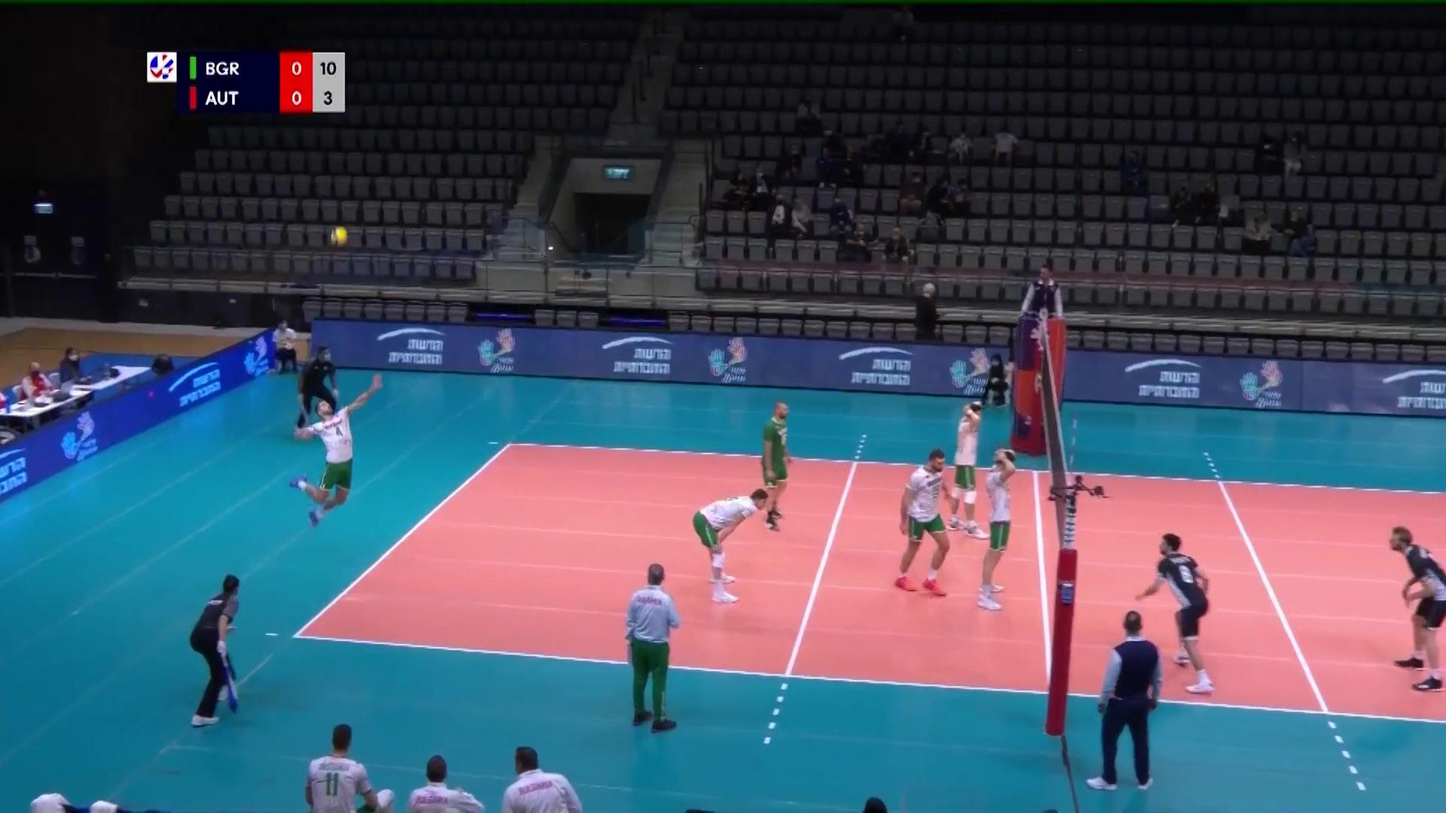ball: (326, 224, 350, 247)
